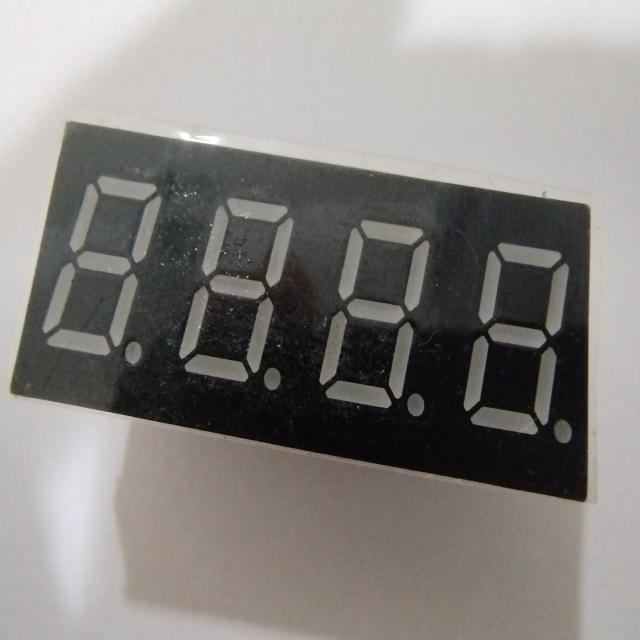7_segments_4_digits: (0, 104, 608, 512)
